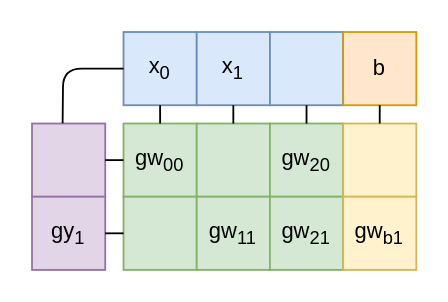
The diagram is 448 pixels wide and 302 high, and some of its shapes have lost their labels. The box of each missing label's shape, as (x1, y1, x2, y2) in pixels:
gw 01: (122, 195, 197, 270)
gw 10: (195, 122, 270, 197)
gw b0: (341, 122, 416, 197)
gy 0: (30, 122, 105, 197)
x 2: (268, 30, 343, 105)
